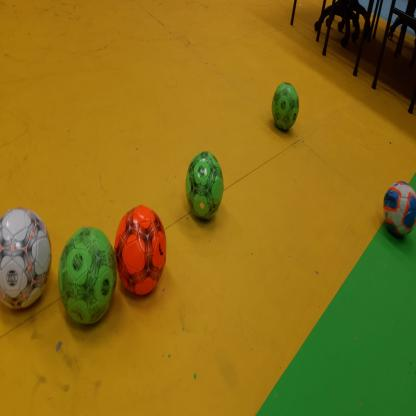ball: (58, 225, 118, 328), (0, 208, 53, 310), (115, 204, 166, 297), (186, 152, 224, 221), (383, 181, 416, 240), (272, 82, 299, 131)
